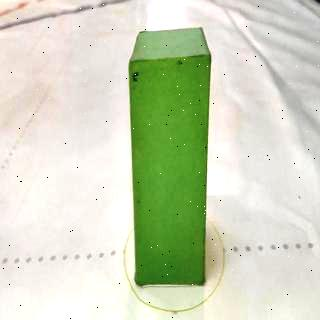greenbox: (126, 26, 214, 285)
